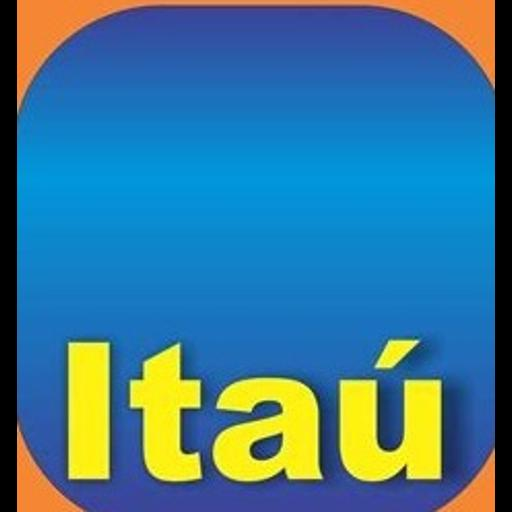Itau Unibanco S-A: (17, 0, 495, 512)
